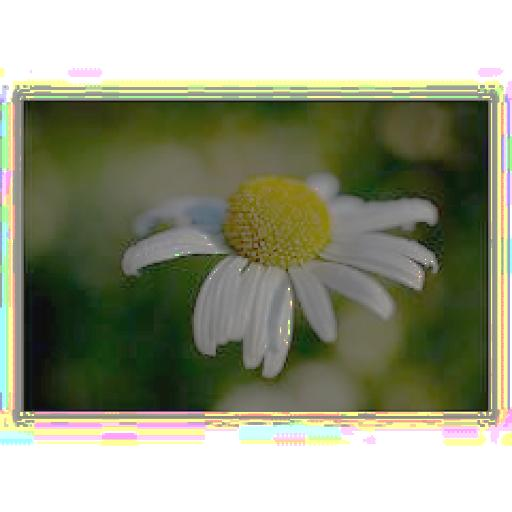daisy: (134, 172, 438, 362)
